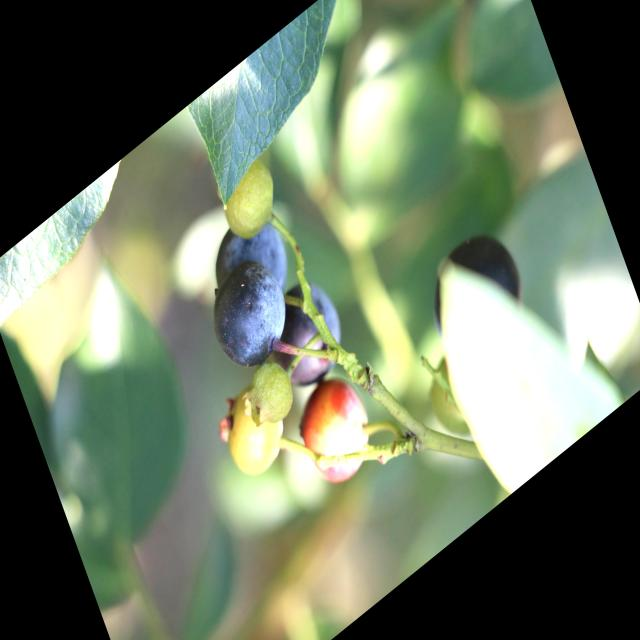blueberry: (421, 213, 532, 365), (200, 243, 298, 386), (258, 263, 354, 406), (208, 195, 300, 324)
blueberry-halfripe: (292, 364, 380, 498)
blueberry-unripe: (216, 378, 290, 488), (215, 150, 286, 253), (240, 348, 300, 439)
